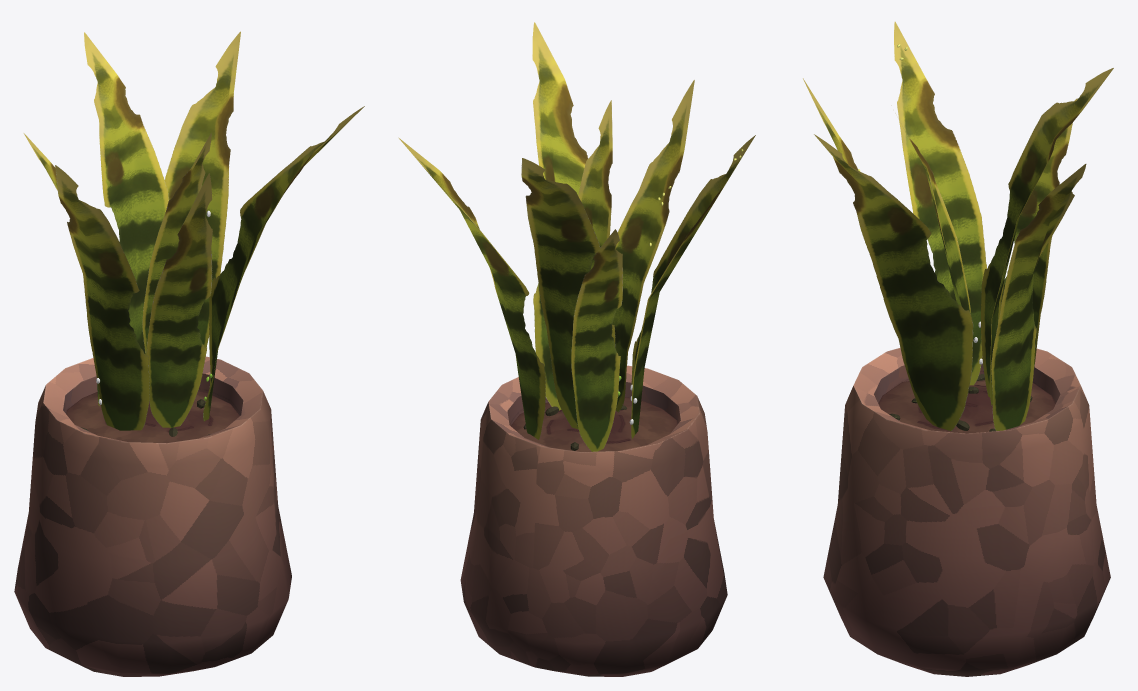
The model's file is MDL_SnakePestCheck.fbx.
3 views of the same model, side by side, from view 1: azimuth 30°, elevation 25°; view 2: azimuth 150°, elevation 25°; view 3: azimuth 270°, elevation 25° (orthographic). The views are drawn at different scales.
Parts seen in each view (by area): view 1: MDL_SnakePlantPestCheck; view 2: MDL_SnakePlantPestCheck; view 3: MDL_SnakePlantPestCheck.
Part boxes in pixels (box(x1,y1,x2,y2)): MDL_SnakePlantPestCheck: box(14, 31, 364, 676); MDL_SnakePlantPestCheck: box(398, 22, 755, 676); MDL_SnakePlantPestCheck: box(803, 21, 1113, 676).
Bounding box in the file's own units: 43.95 × 80.67 × 42.24.
